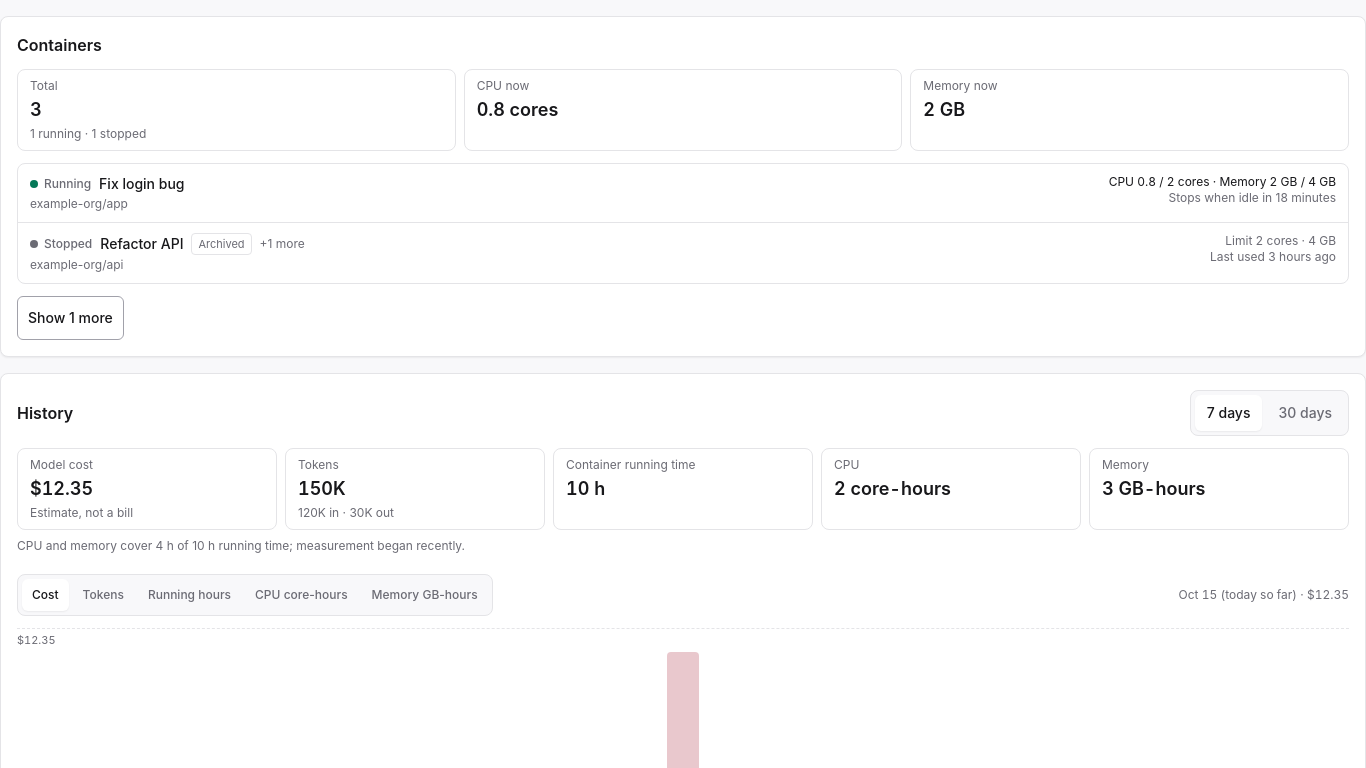
Test: UsageSettings › continues the list from its cursor and keeps the longer list on refresh
The image size is (1366, 768).
Click the button "Show 1 more".
click(70, 318)  # box left=17, top=296, right=124, bottom=340
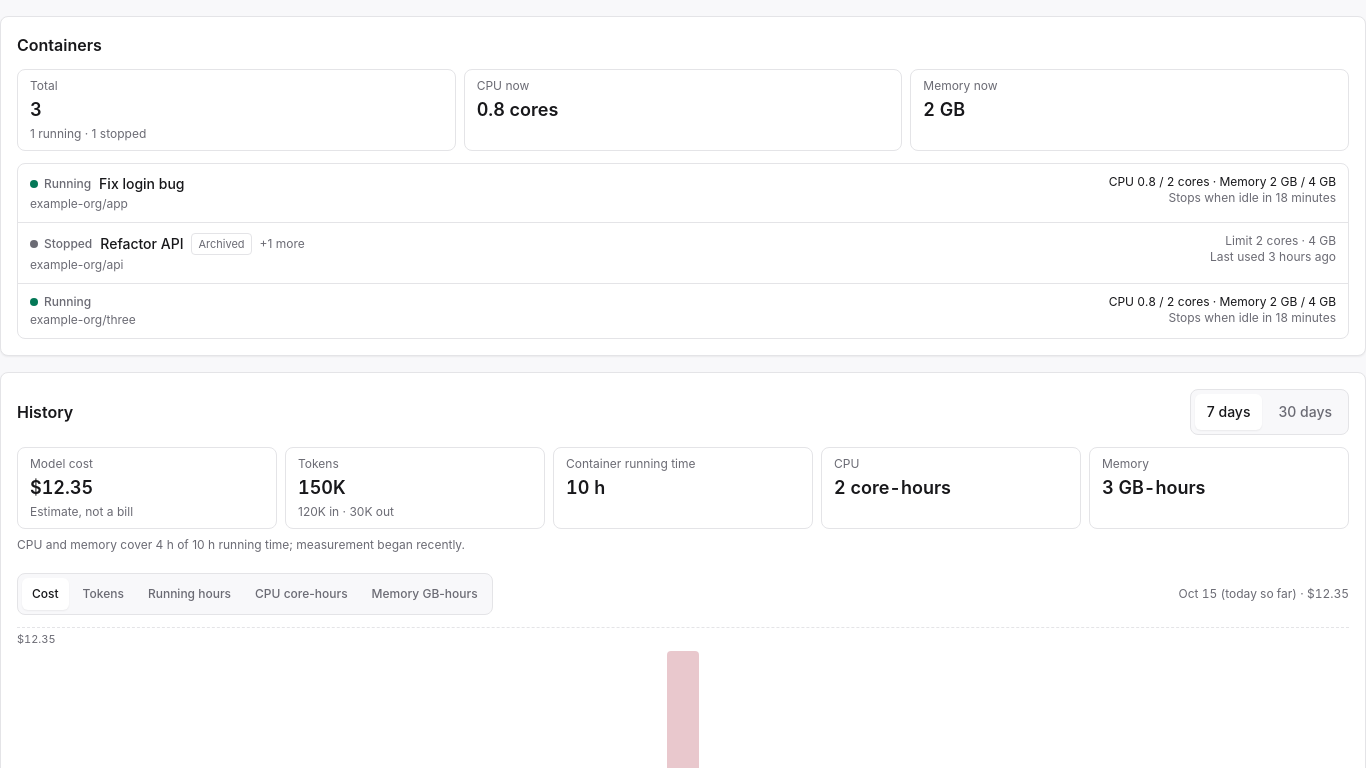
Expected: the text "example-org/three" is shown, left=30, top=312, right=136, bottom=328
Expected: the button "Show" is gone
